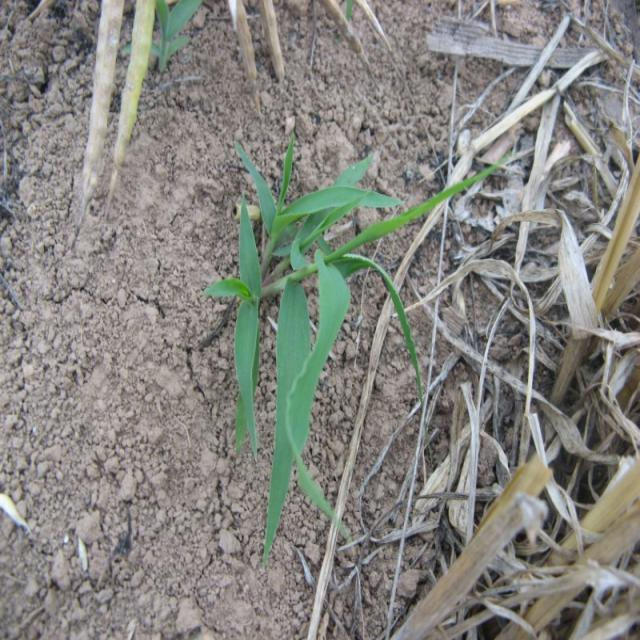bg: (209, 127, 488, 565)
